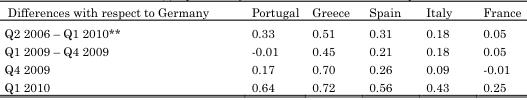table: (3, 4, 520, 93)
table column: (3, 4, 229, 93), (229, 4, 304, 93), (304, 4, 358, 93), (358, 4, 412, 93), (412, 4, 466, 93), (466, 4, 520, 93)
table column header: (3, 4, 520, 21)
table row: (3, 21, 520, 41), (3, 41, 520, 59), (3, 59, 520, 77), (3, 4, 520, 21), (3, 77, 520, 93)
